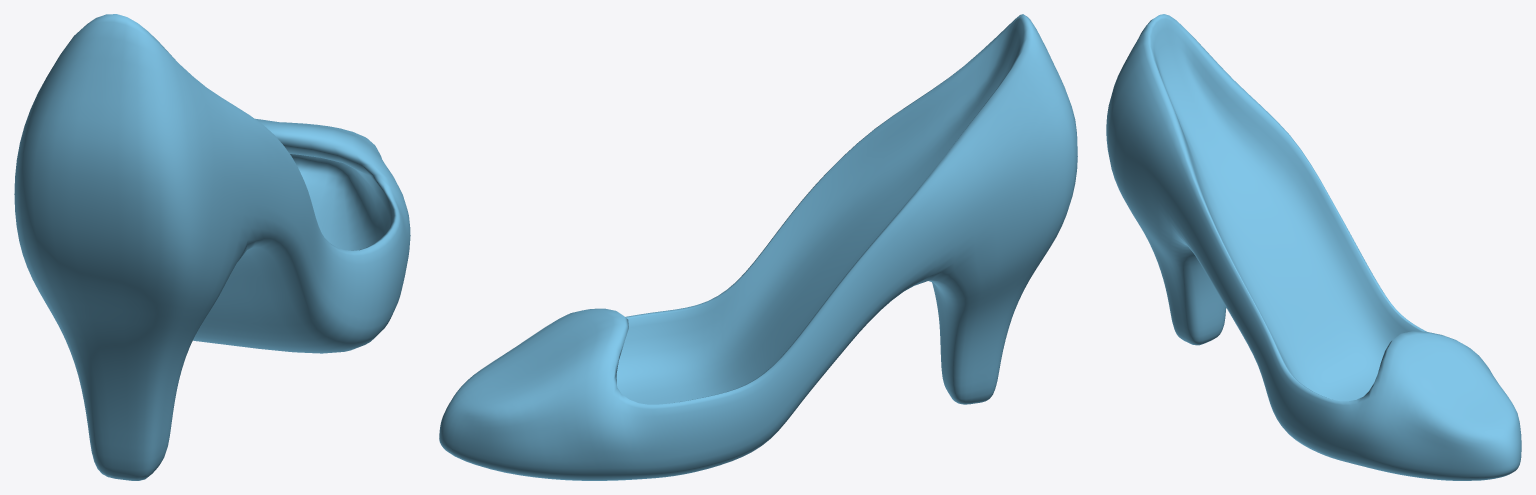
Rendered from Heel4.fbx.
The picture shows the model from 3 angles, left to right: view 1: azimuth 30°, elevation 25°; view 2: azimuth 150°, elevation 25°; view 3: azimuth 270°, elevation 25°; orthographic projection. The views are drawn at different scales.
Parts seen in each view (by area): view 1: HeelRightNOBOW3; view 2: HeelRightNOBOW3; view 3: HeelRightNOBOW3.
Part boxes in pixels (x1,y1,x2,y2): HeelRightNOBOW3: (14,14,410,480); HeelRightNOBOW3: (439,14,1077,480); HeelRightNOBOW3: (1106,14,1521,480).
Size of the model in its own units: 2.85 by 2.41 by 2.78.
